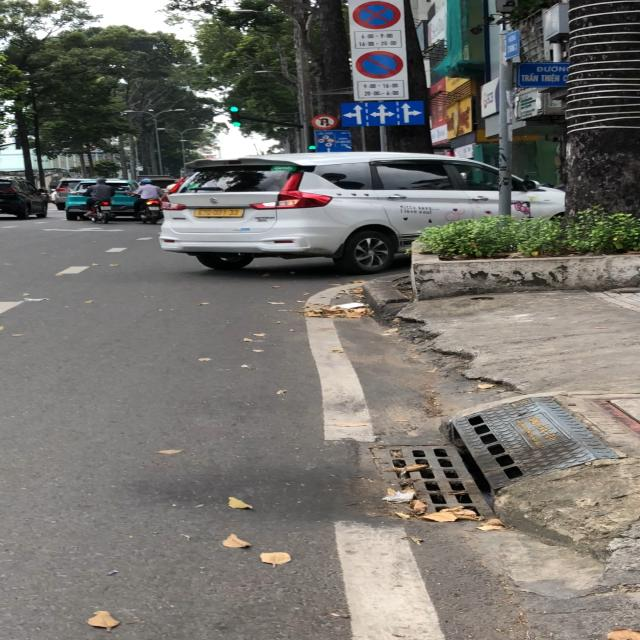Bien bao cam do xe: (353, 49, 412, 81)
Bien bao cam dung xe va do xe: (351, 1, 414, 31)
Bien bao cam quay dau xe: (309, 113, 340, 131)
